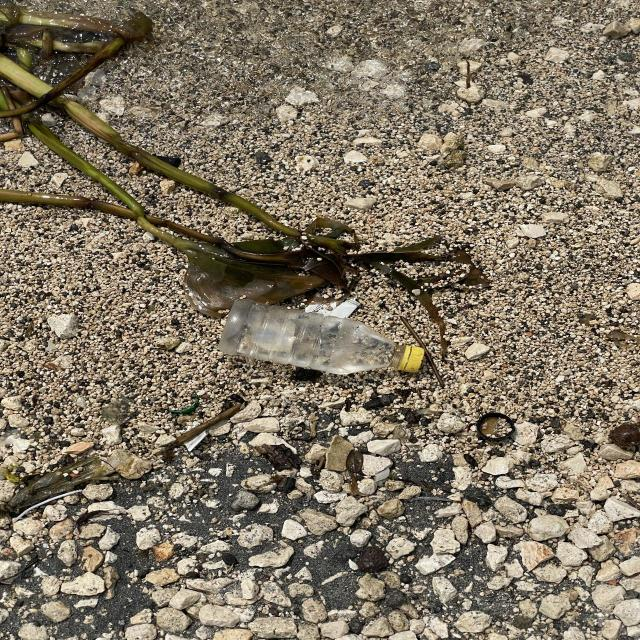plastic_waste: (222, 296, 426, 373)
